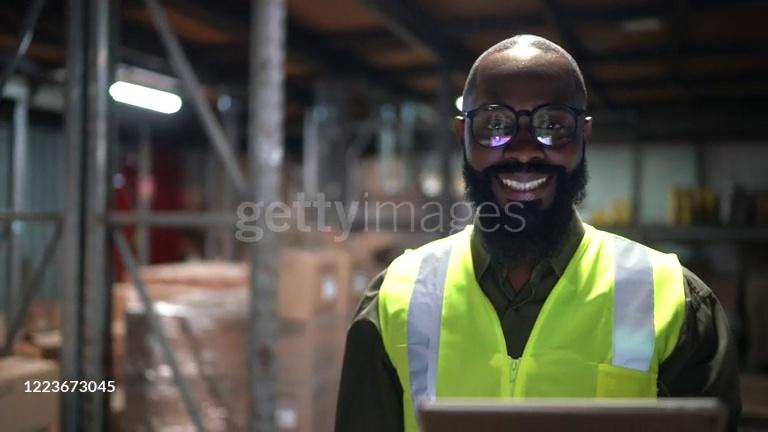person: (333, 35, 745, 432)
